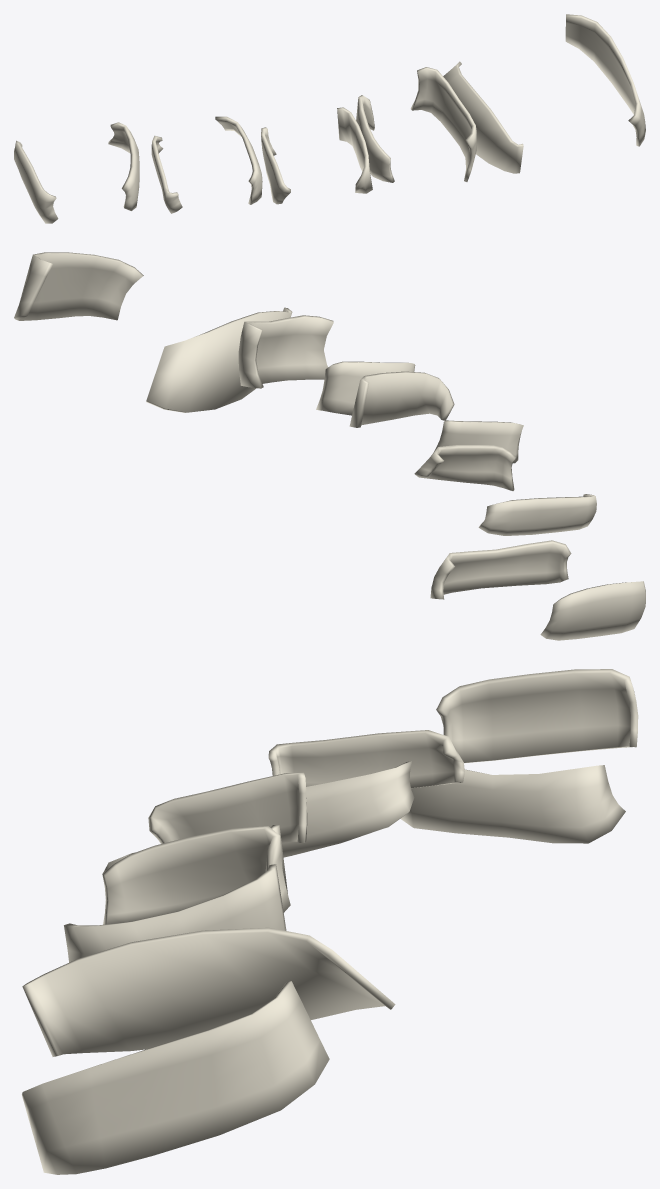
3 views of the same model, one above another, from view 1: azimuth 30°, elevation 25°; view 2: azimuth 150°, elevation 25°; view 3: azimuth 270°, elevation 25° (orthographic). The views are drawn at different scales.
Visible parts, largest first — view 1: ZA_41c0645544a85a42; view 2: ZA_41c0645544a85a42; view 3: ZA_41c0645544a85a42.
Part boxes in pixels (x1=…): ZA_41c0645544a85a42: x1=14, y1=14, x2=645, y2=223; ZA_41c0645544a85a42: x1=14, y1=252, x2=645, y2=640; ZA_41c0645544a85a42: x1=22, y1=669, x2=638, y2=1174.
Bounding box in the file's own units: 0.0821 × 0.0189 × 0.0424.
